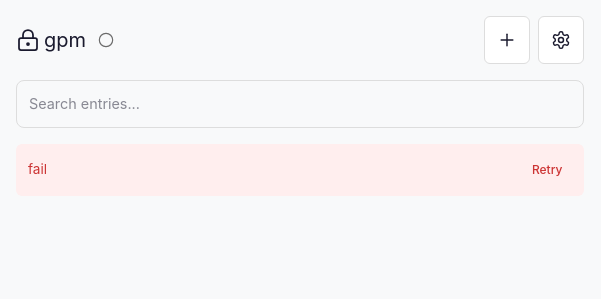
Scenario: EntryListPage › entry loading › shows retry button on error
Click the button "Retry".
click(547, 170)  # box [522, 152, 572, 188]
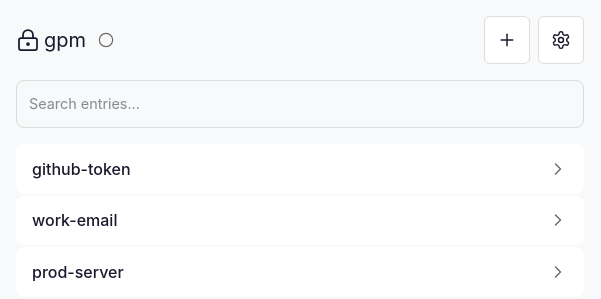
Check: the text "github-token" is shown, box [32, 159, 130, 179]
